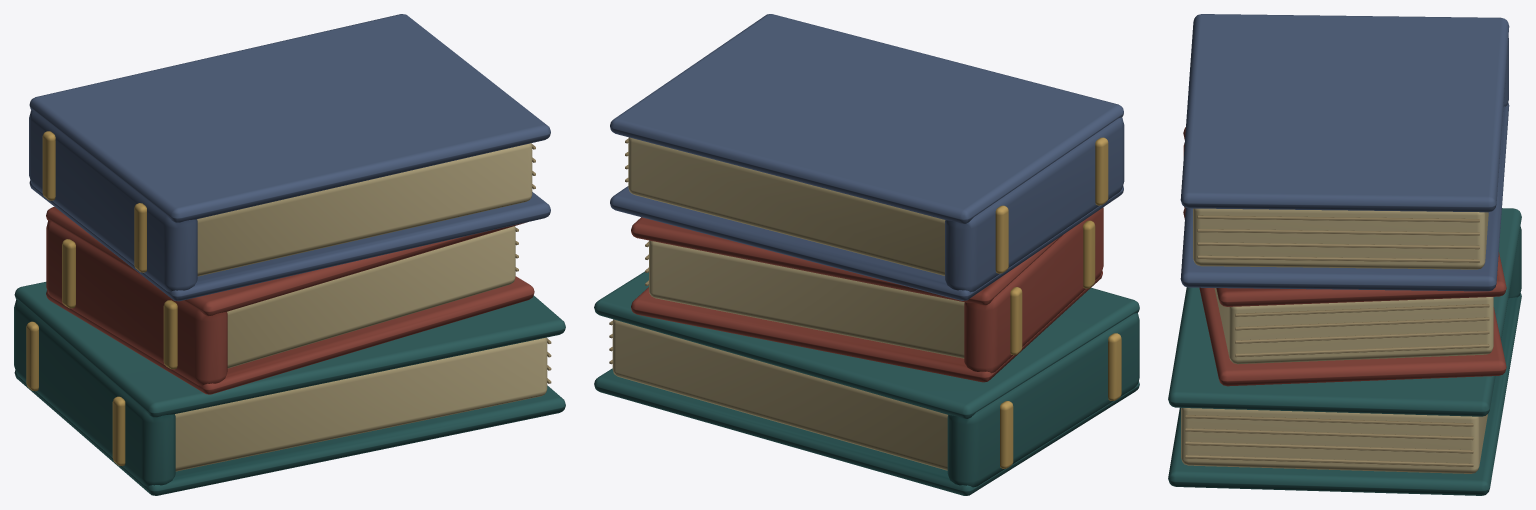
File: fw_books_stack.hi.glb
3 views of the same model, side by side, from view 1: azimuth 30°, elevation 25°; view 2: azimuth 150°, elevation 25°; view 3: azimuth 270°, elevation 25° (orthographic). The views are drawn at different scales.
Parts seen in each view (by area): view 1: body; view 2: body; view 3: body.
Part boxes in pixels (left/top/right/bottom): body: left=14, top=14, right=565, bottom=495; body: left=594, top=14, right=1139, bottom=495; body: left=1168, top=14, right=1521, bottom=495.
Bounding box in the file's own units: 0.7419 × 0.475 × 0.5261.
